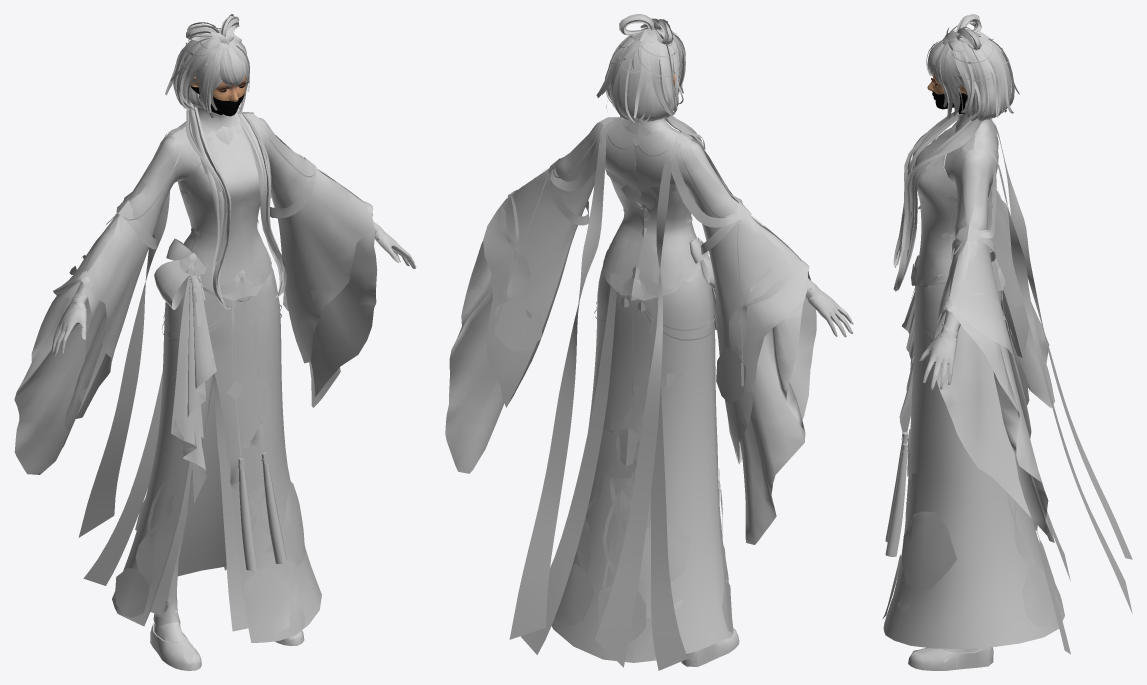
Rendered from yarn_model.fbx.
3 renders of one model, left to right at view 1: azimuth 30°, elevation 25°; view 2: azimuth 150°, elevation 25°; view 3: azimuth 270°, elevation 25°, orthographic.
Parts seen in each view (by area): view 1: Tunic_Cloth, Body_Cloth, Head_Hair_Cloth, Cuff_Body, Pants_Cloth, Pants_Body, Mesh_0018, Tunic_Body, Head; view 2: Body_Cloth, Tunic_Cloth, Head_Hair_Cloth, Cuff_Body, Pants_Cloth, Head; view 3: Tunic_Cloth, Body_Cloth, Head_Hair_Cloth, Pants_Cloth, Cuff_Body, Tunic_Body, Head, Mesh_0018.
Boxes of the visible parts, x1=… form: Tunic_Cloth: x1=83, y1=133, x2=321, y2=642; Body_Cloth: x1=14, y1=107, x2=377, y2=537; Head_Hair_Cloth: x1=165, y1=14, x2=286, y2=309; Cuff_Body: x1=51, y1=221, x2=416, y2=356; Pants_Cloth: x1=150, y1=590, x2=304, y2=670; Pants_Body: x1=153, y1=375, x2=213, y2=642; Mesh_0018: x1=190, y1=75, x2=245, y2=116; Tunic_Body: x1=128, y1=115, x2=275, y2=201; Head: x1=177, y1=25, x2=246, y2=70; Body_Cloth: x1=445, y1=113, x2=816, y2=667; Tunic_Cloth: x1=521, y1=170, x2=737, y2=670; Head_Hair_Cloth: x1=596, y1=14, x2=705, y2=149; Cuff_Body: x1=807, y1=278, x2=853, y2=337; Pants_Cloth: x1=681, y1=628, x2=739, y2=666; Head: x1=610, y1=18, x2=681, y2=76; Tunic_Cloth: x1=882, y1=127, x2=1070, y2=654; Body_Cloth: x1=934, y1=112, x2=1132, y2=613; Head_Hair_Cloth: x1=893, y1=14, x2=1019, y2=291; Pants_Cloth: x1=908, y1=647, x2=993, y2=670; Cuff_Body: x1=918, y1=205, x2=960, y2=390; Tunic_Body: x1=961, y1=152, x2=981, y2=225; Head: x1=942, y1=25, x2=1009, y2=81; Mesh_0018: x1=927, y1=73, x2=972, y2=113.
Size of the model in its own units: 103 by 169 by 62.
